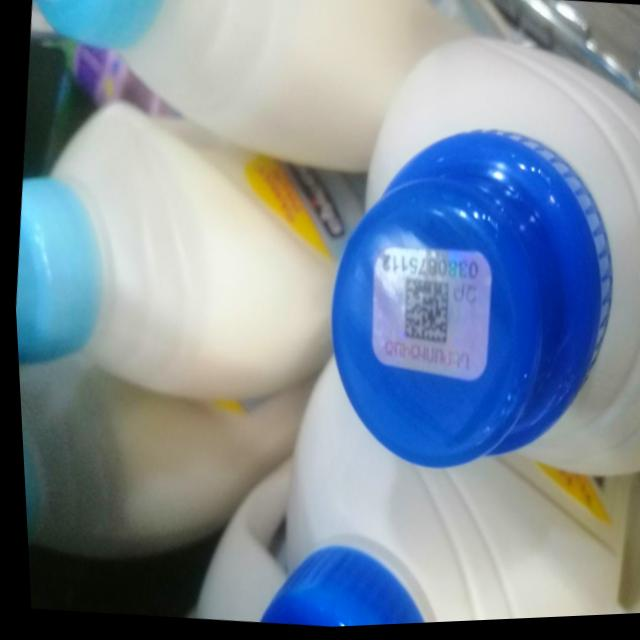datamatrix: (394, 277, 452, 352)
